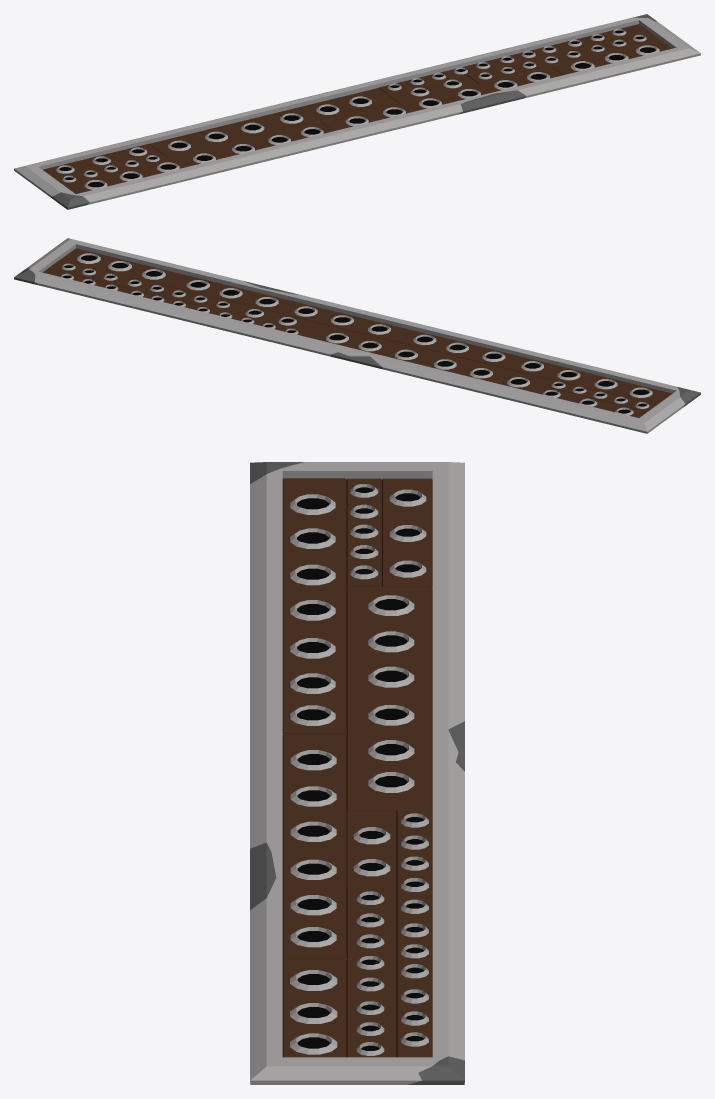
The model's file is LGEWoodenBoardTrap.fbx.
3 views of the same model, one above another, from view 1: azimuth 30°, elevation 25°; view 2: azimuth 150°, elevation 25°; view 3: azimuth 270°, elevation 25° (orthographic). The views are drawn at different scales.
Visible parts, largest first — view 1: LGEWoodenBoardTrap; view 2: LGEWoodenBoardTrap; view 3: LGEWoodenBoardTrap.
Part boxes in pixels (left/top/right/bottom): LGEWoodenBoardTrap: left=14, top=14, right=700, bottom=209; LGEWoodenBoardTrap: left=14, top=238, right=700, bottom=433; LGEWoodenBoardTrap: left=250, top=462, right=464, bottom=1084.
Bounding box in the file's own units: 358 × 3.18 × 52.56.
